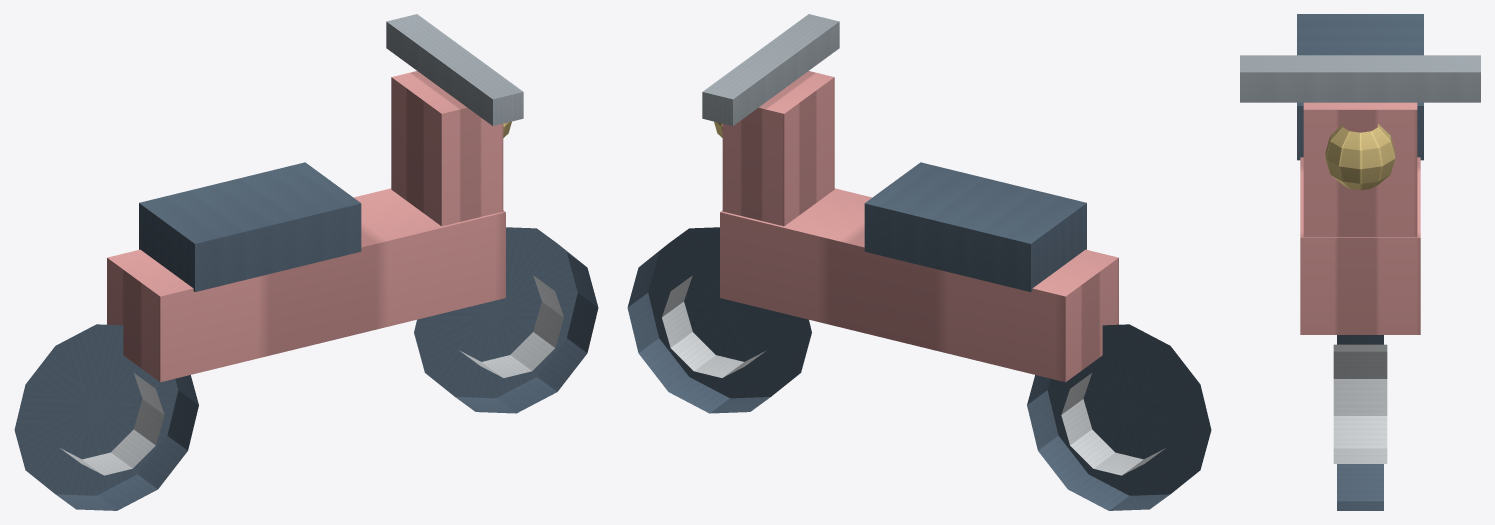
The model's file is motorcycle.glb.
3 renders of one model, left to right at view 1: azimuth 30°, elevation 25°; view 2: azimuth 150°, elevation 25°; view 3: azimuth 270°, elevation 25°, orthographic. The views are drawn at different scales.
Parts seen in each view (by area): view 1: motorcycle; view 2: motorcycle; view 3: motorcycle.
Boxes of the visible parts, box(x1,y1,x2,y2) form: motorcycle: box(14, 14, 598, 510); motorcycle: box(627, 14, 1211, 510); motorcycle: box(1240, 14, 1480, 510).
Size of the model in its own units: 2.2 by 1.35 by 0.72.
Materials: 1 (1 with a texture image).
